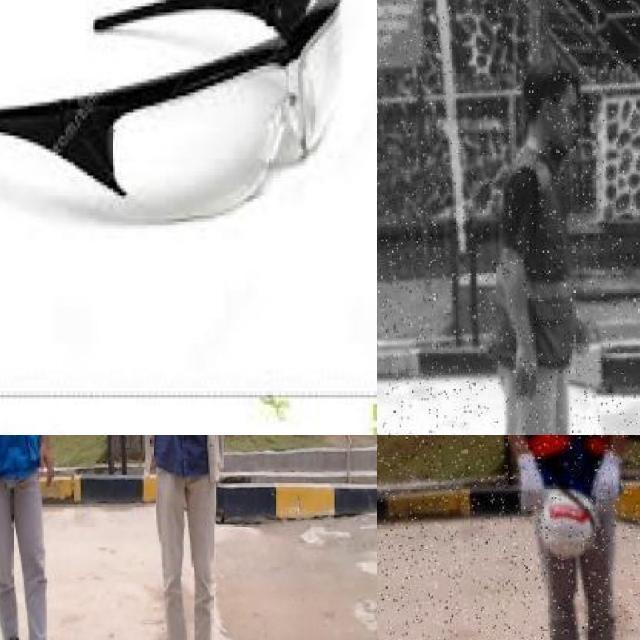apron: (593, 453, 621, 515), (518, 452, 544, 514)
